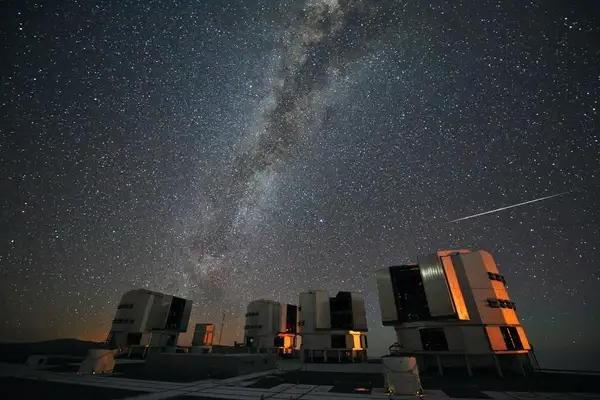meteorite: (436, 185, 577, 224)
